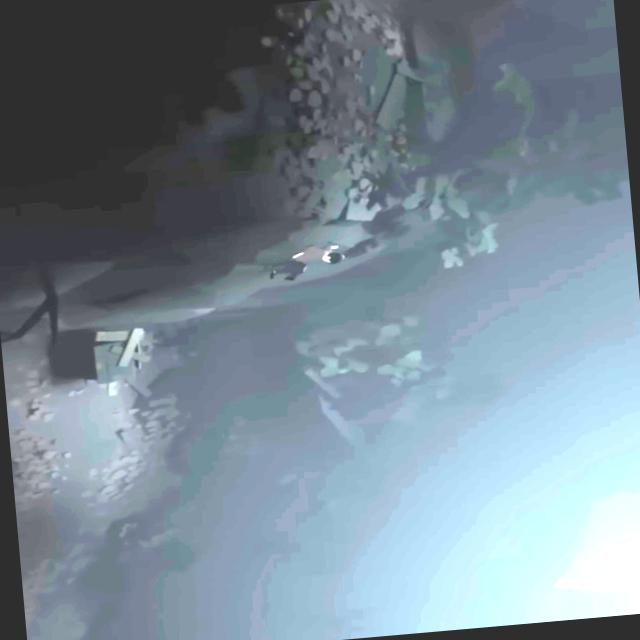boy: (266, 244, 348, 282)
